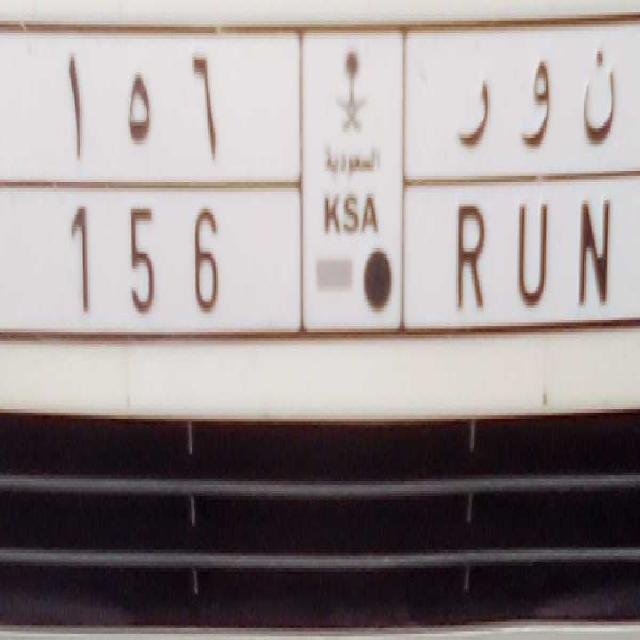license_plate: (38, 167, 628, 352)
